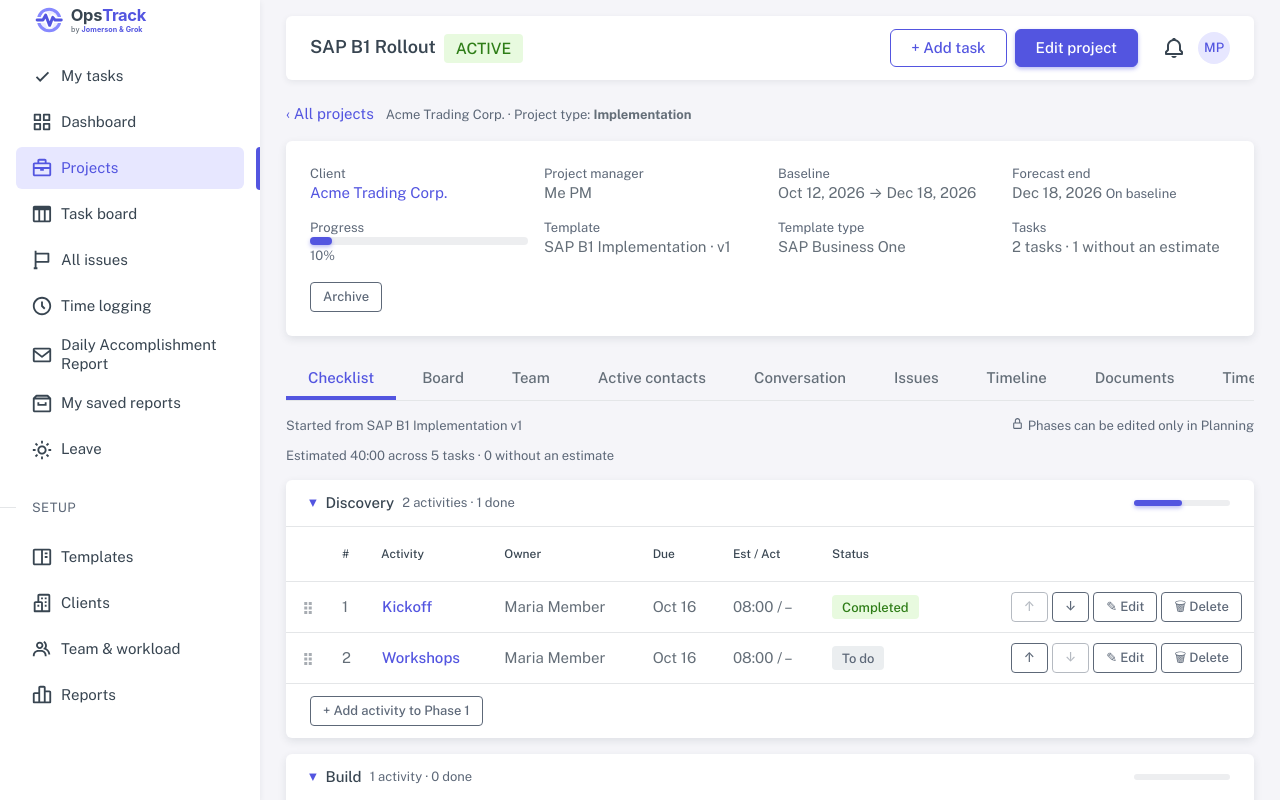
Test: Project Checklist (FR-PRJ-14..16) › FR-PRJ-20 planners get an always-visible "✎ Edit" on every row, opening the task form
The width and height of the screenshot is (1280, 800).
Expected: the button "Kickoff" is shown, [381,596,433,618]
Click the 2nd button "✎ Edit": (1125, 658) [1093,643,1157,673]
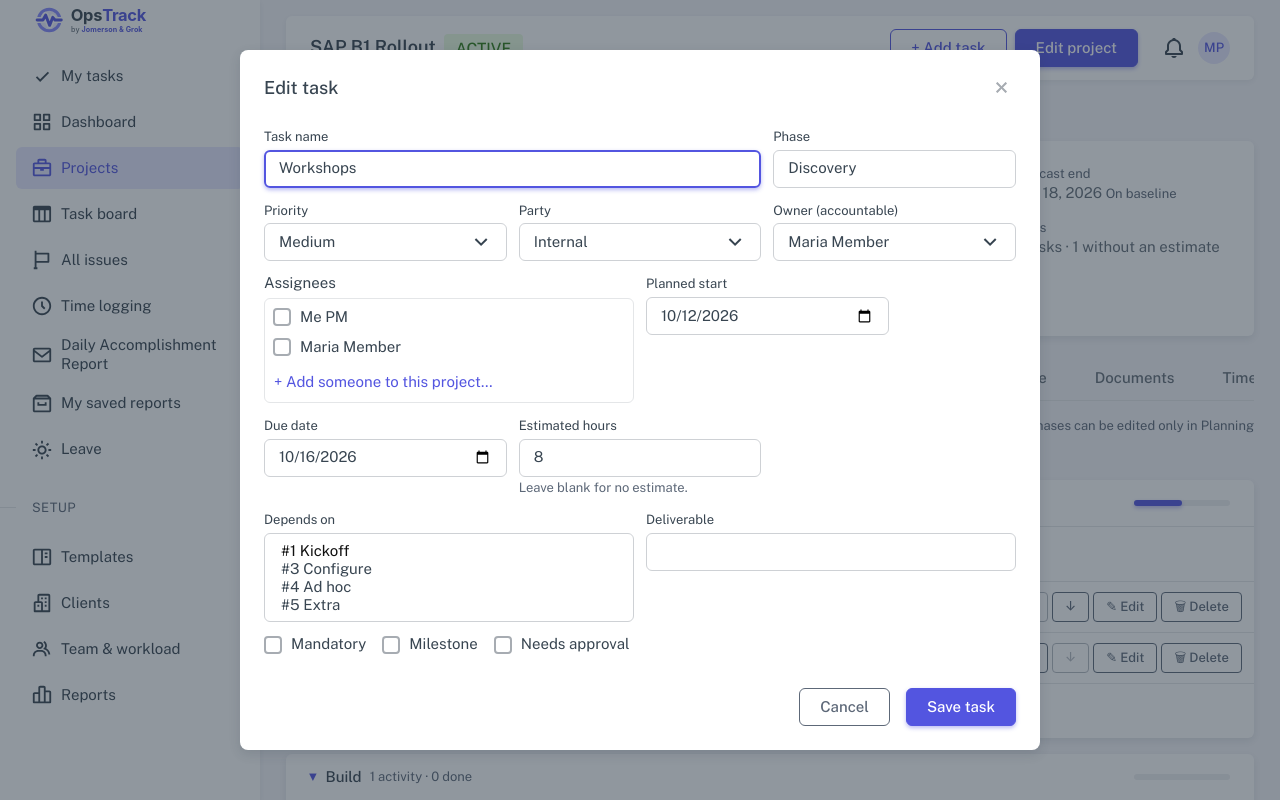
Now the heading "Edit task" is shown, box [264,74,338,102]
Now the field labelled "Task name" holds "Workshops", box [264,150,761,188]
